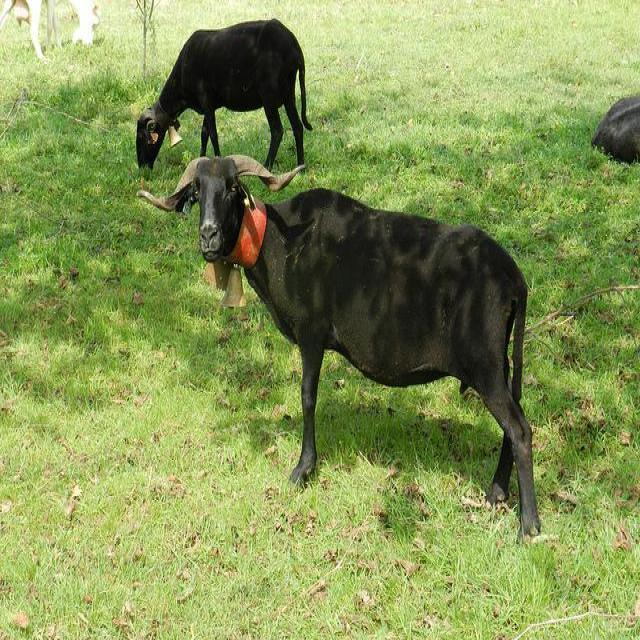Sheep: (134, 156, 540, 545), (135, 19, 311, 168), (592, 92, 639, 164)
